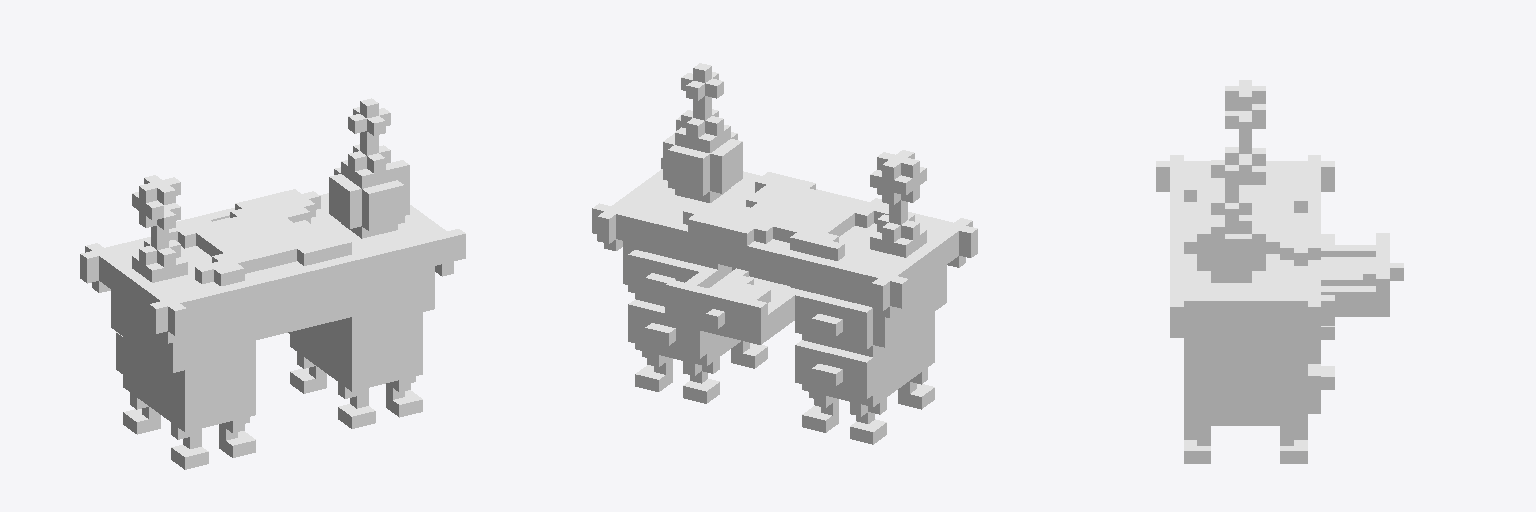
File: ship-3.obj
3 renders of one model, left to right at view 1: azimuth 30°, elevation 25°; view 2: azimuth 150°, elevation 25°; view 3: azimuth 270°, elevation 25°, orthographic.
Parts seen in each view (by area): view 1: object 1; view 2: object 1; view 3: object 1.
Part boxes in pixels (x1,y1,x2,y2): object 1: (80, 98, 465, 469); object 1: (592, 63, 977, 444); object 1: (1156, 80, 1403, 463).
Bounding box in the file's own units: 2.6 × 2.4 × 1.8.